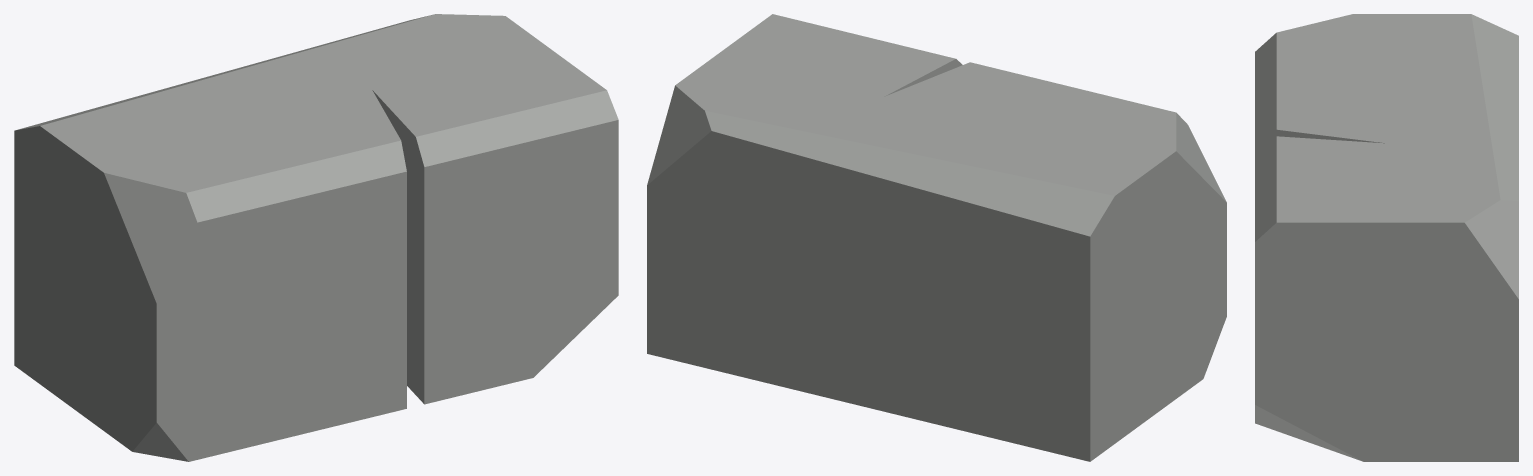
File: Rock_Block_m_07.fbx
3 renders of one model, left to right at view 1: azimuth 30°, elevation 25°; view 2: azimuth 150°, elevation 25°; view 3: azimuth 270°, elevation 25°, orthographic. The views are drawn at different scales.
Parts seen in each view (by area): view 1: Rock_Block_m_07; view 2: Rock_Block_m_07; view 3: Rock_Block_m_07.
Boxes of the visible parts, left/top/right/bottom form: Rock_Block_m_07: left=14, top=14, right=618, bottom=461; Rock_Block_m_07: left=647, top=14, right=1226, bottom=461; Rock_Block_m_07: left=1255, top=14, right=1518, bottom=461.
Size of the model in its own units: 112 by 60 by 60.
